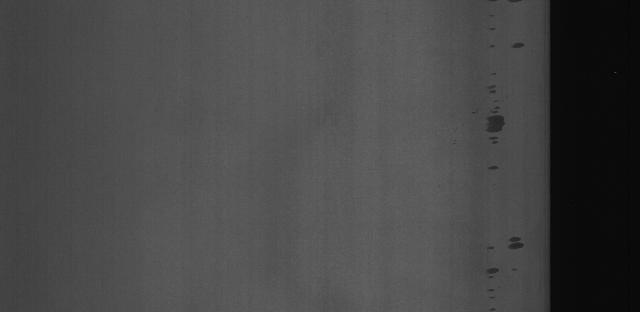oil_spot: (481, 83, 510, 179), (505, 26, 533, 55), (509, 232, 527, 258), (483, 264, 504, 279)
